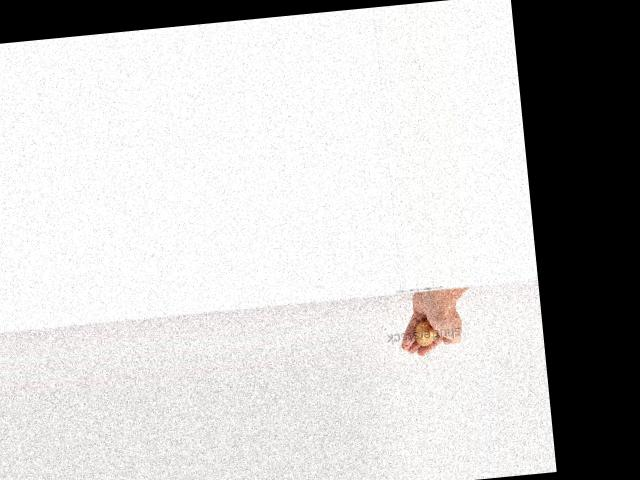egg: (413, 318, 437, 346)
